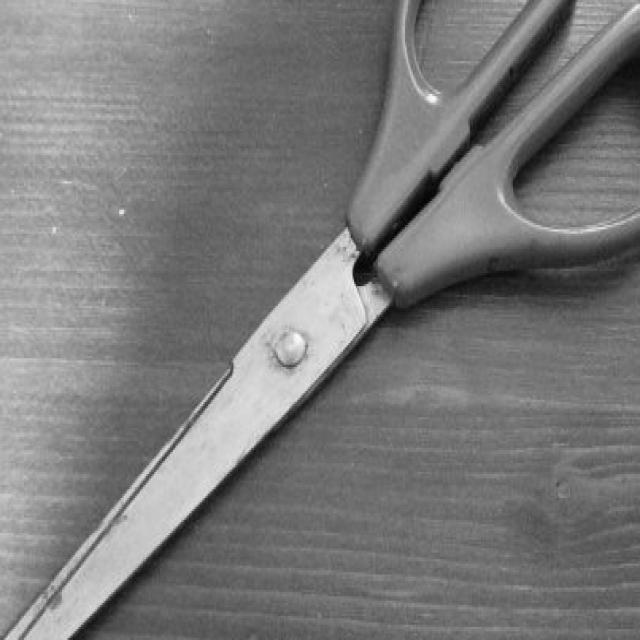tesoura: (2, 0, 639, 639)
